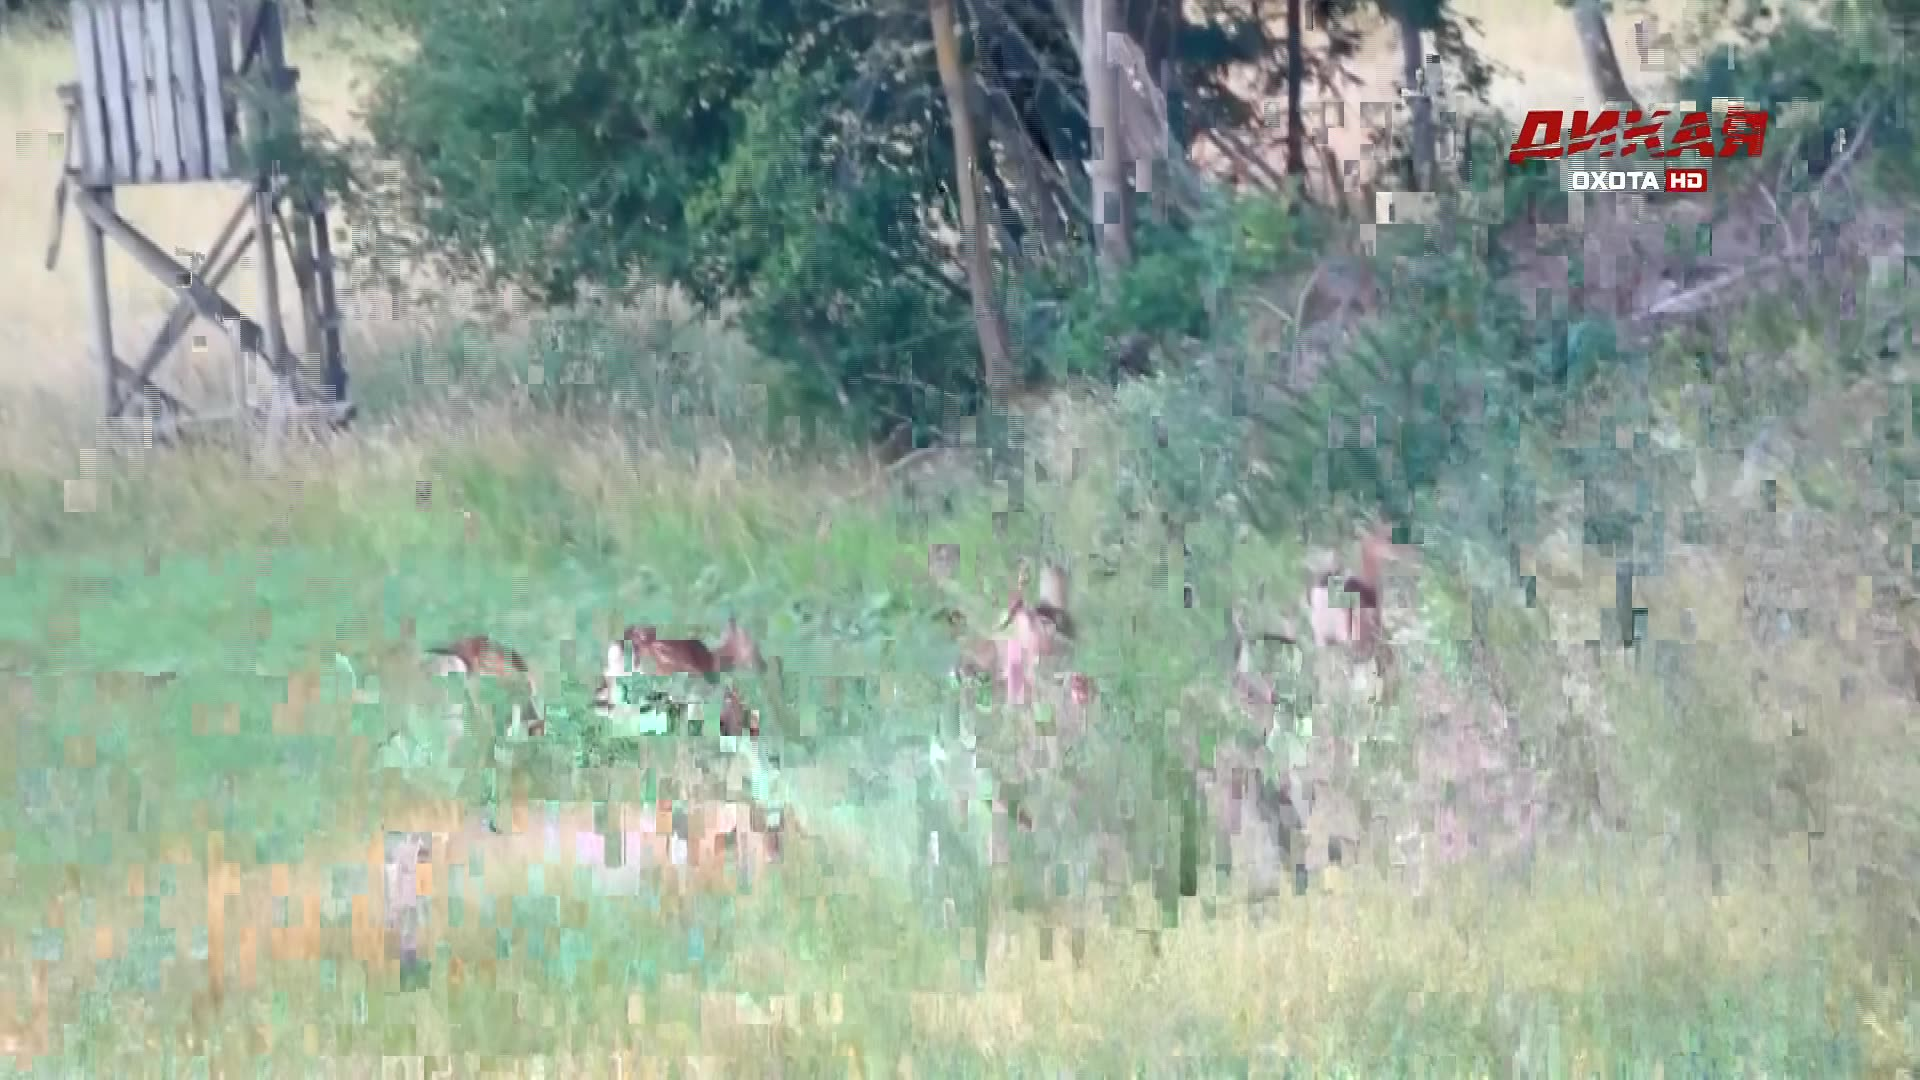Dikaya_Ohota_HD: (1505, 105, 1770, 196)
